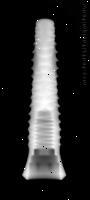Cowellmedi: (20, 14, 82, 184)
